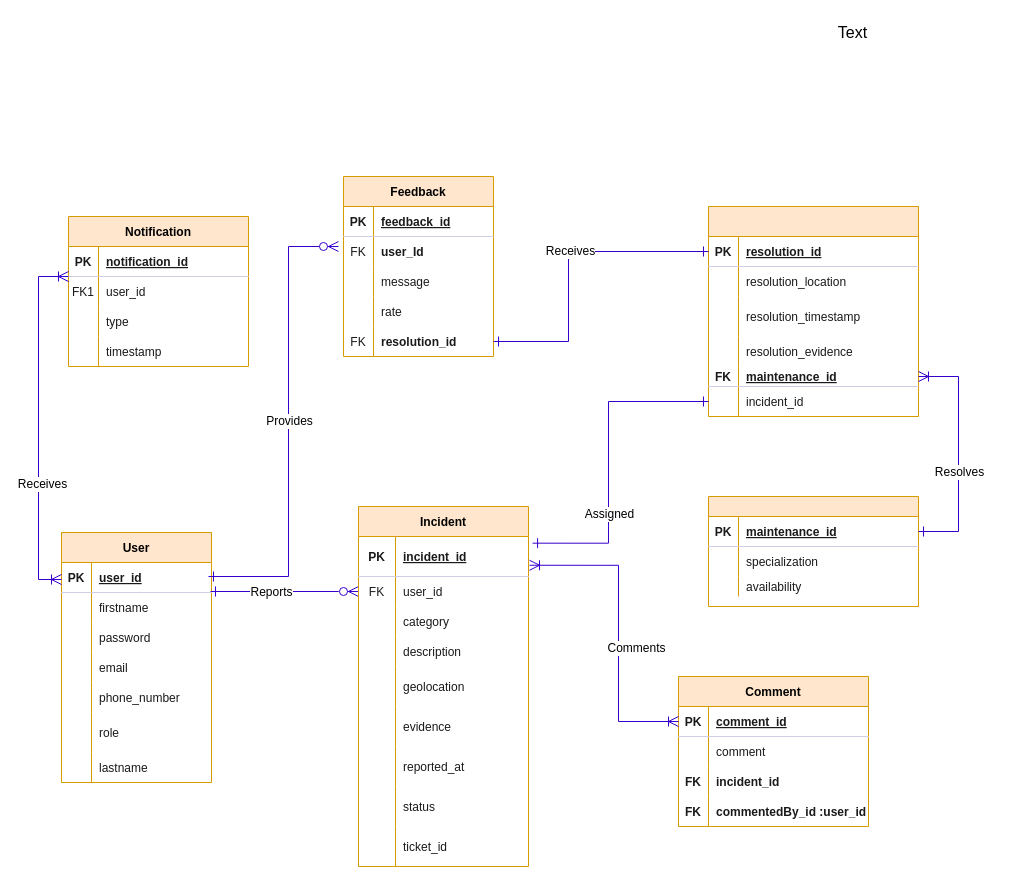
Some shapes in this 1034 by 884 pixel diagram are drawn without their labels. Each missing label, with the box of its shape:
Incident_resolution: (708, 206, 918, 416)
MaintenanceTeam: (708, 496, 918, 606)
